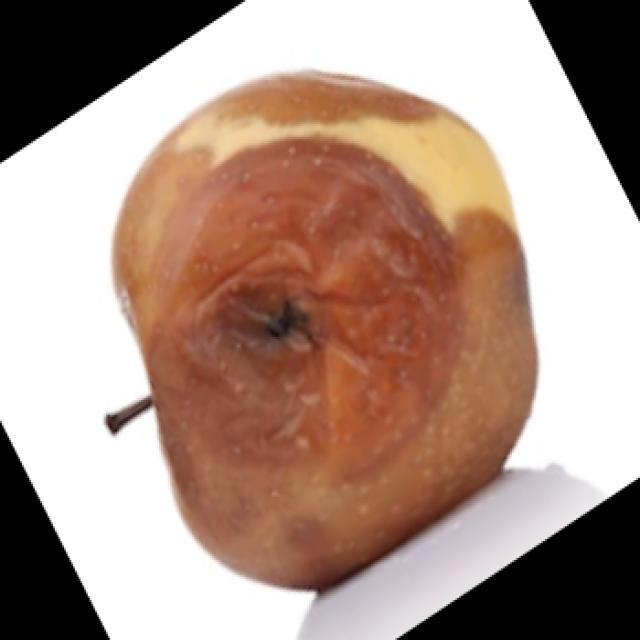Rotten: (136, 70, 542, 562)
